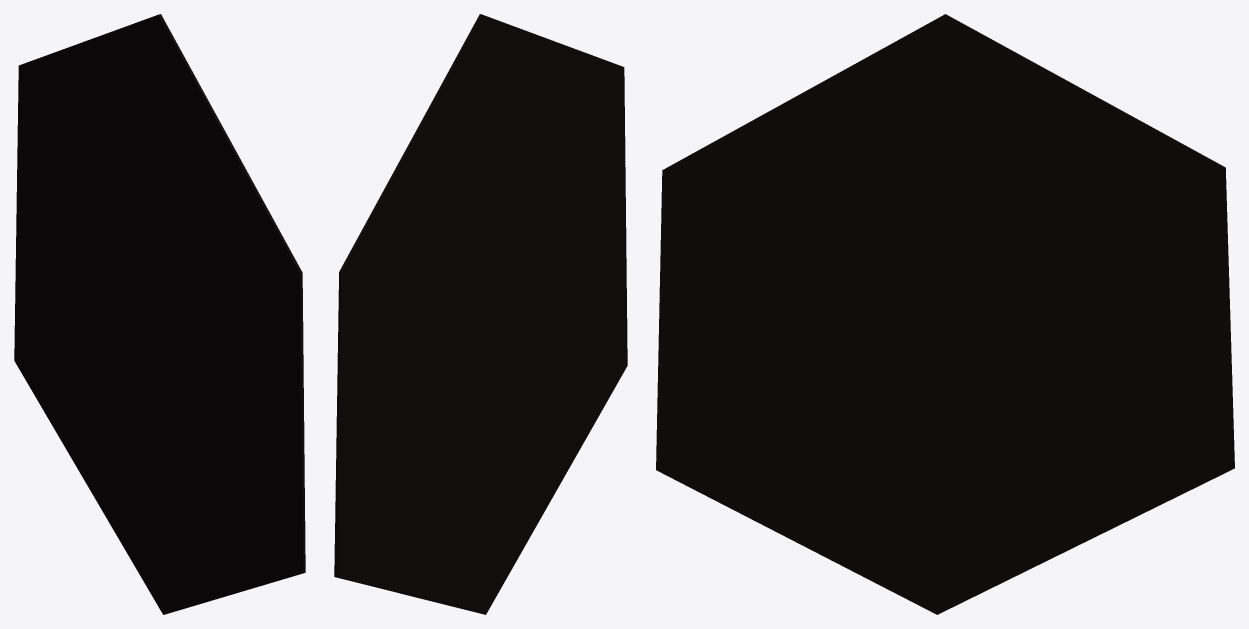
File: akustikabsorber_Farbe3.glb
3 renders of one model, left to right at view 1: azimuth 30°, elevation 25°; view 2: azimuth 150°, elevation 25°; view 3: azimuth 270°, elevation 25°, orthographic.
Parts seen in each view (by area): view 1: Plane.001; view 2: Plane.001; view 3: Plane.001.
Part boxes in pixels (x1,y1,x2,y2): Plane.001: [14, 14, 305, 614]; Plane.001: [334, 14, 627, 614]; Plane.001: [656, 14, 1234, 614].
Size of the model in its own units: 0.00262 by 0.4701 by 0.4114.
Materials: 1 (1 with a texture image).
